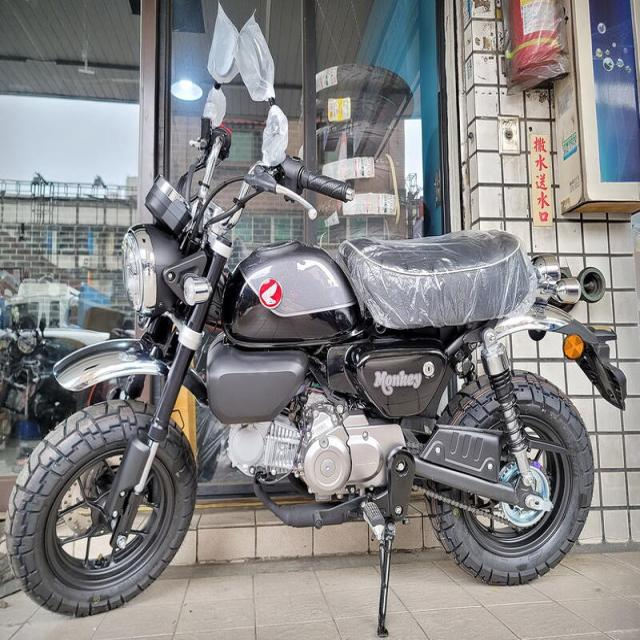Bike: (5, 121, 626, 638)
